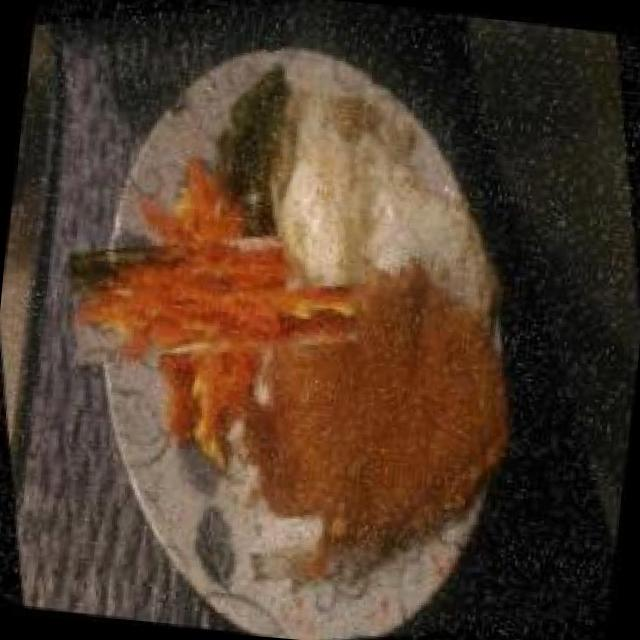carrot_eggs: (84, 168, 344, 428)
fried_chicken: (199, 222, 555, 587)
fried_eggs: (247, 54, 512, 314)
rice: (244, 502, 334, 594)
